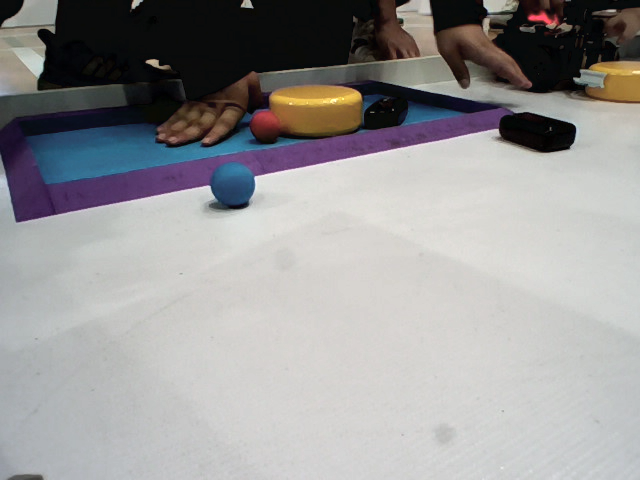black: (494, 104, 583, 175), (366, 74, 410, 142)
blue: (205, 166, 256, 215)
kuang: (1, 59, 532, 232)
red: (247, 103, 281, 140)
yellow: (567, 43, 640, 126), (267, 81, 369, 139)
